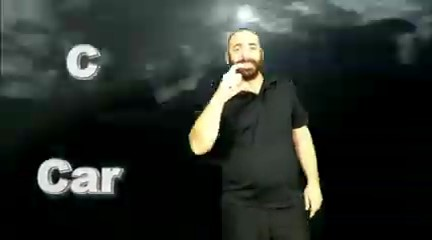C: (220, 62, 251, 104)
